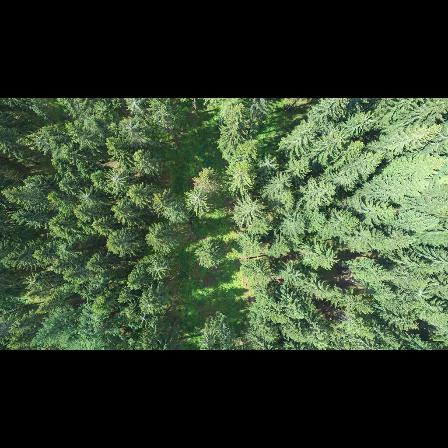Sick: (186, 186, 213, 213), (103, 166, 131, 192), (144, 256, 173, 279), (73, 187, 102, 210), (123, 98, 149, 120)
